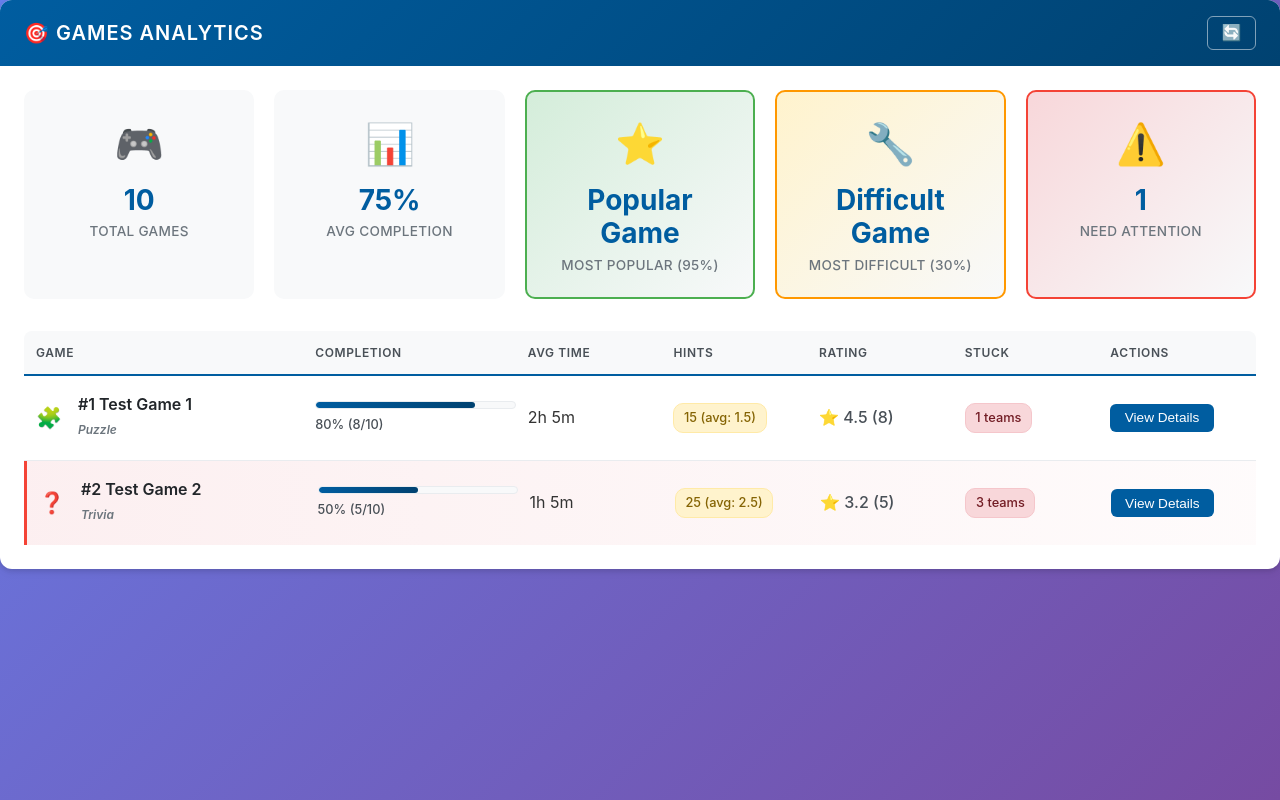
Test: GamesAnalyticsTab › Game Details Modal › should open details modal when clicking "View Details"
This screenshot has width=1280, height=800.
Expected: the text "#1 Test Game 1" is shown, x1=78 y1=392 x2=192 y2=418
Click the button "View Details" in the row of "4.5": (1162, 418) x1=1110 y1=404 x2=1214 y2=432
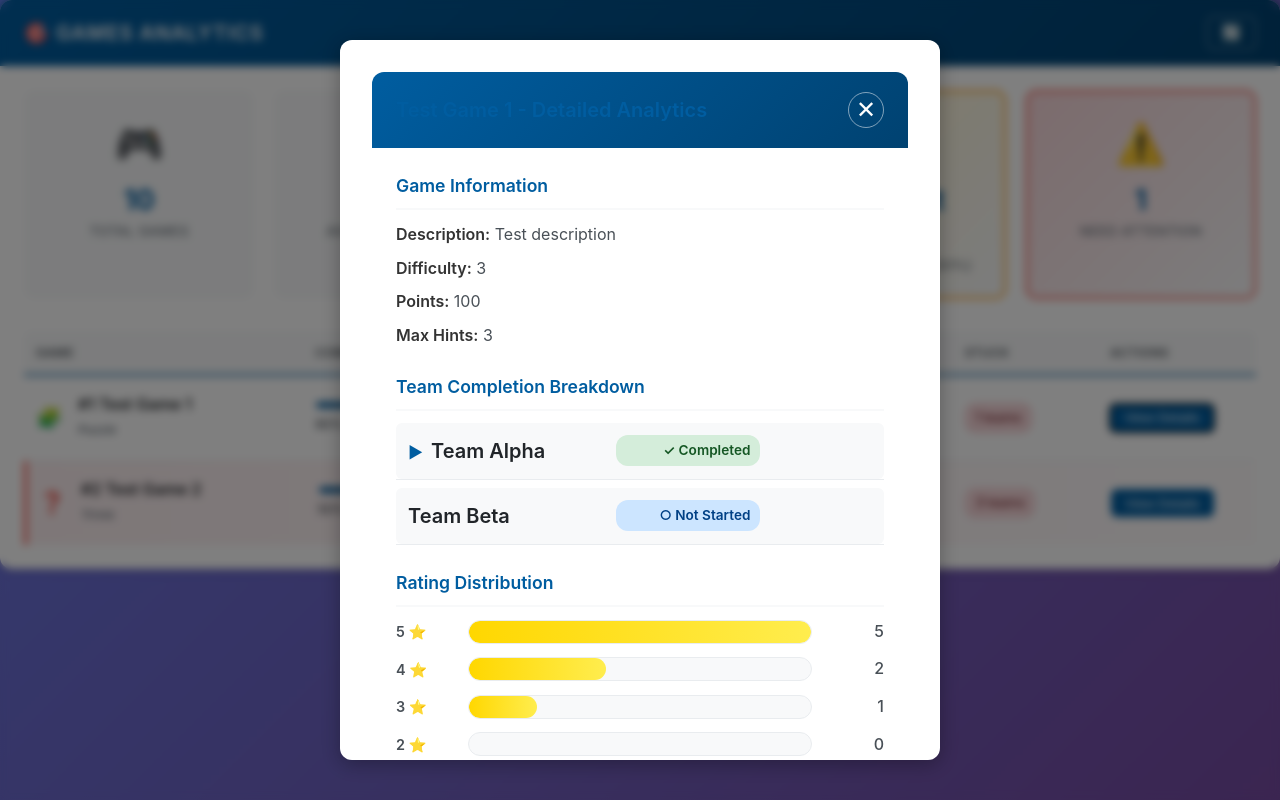
Now the heading "Test Game 1 - Detailed Analytics" is shown, box x1=396 y1=94 x2=707 y2=126
